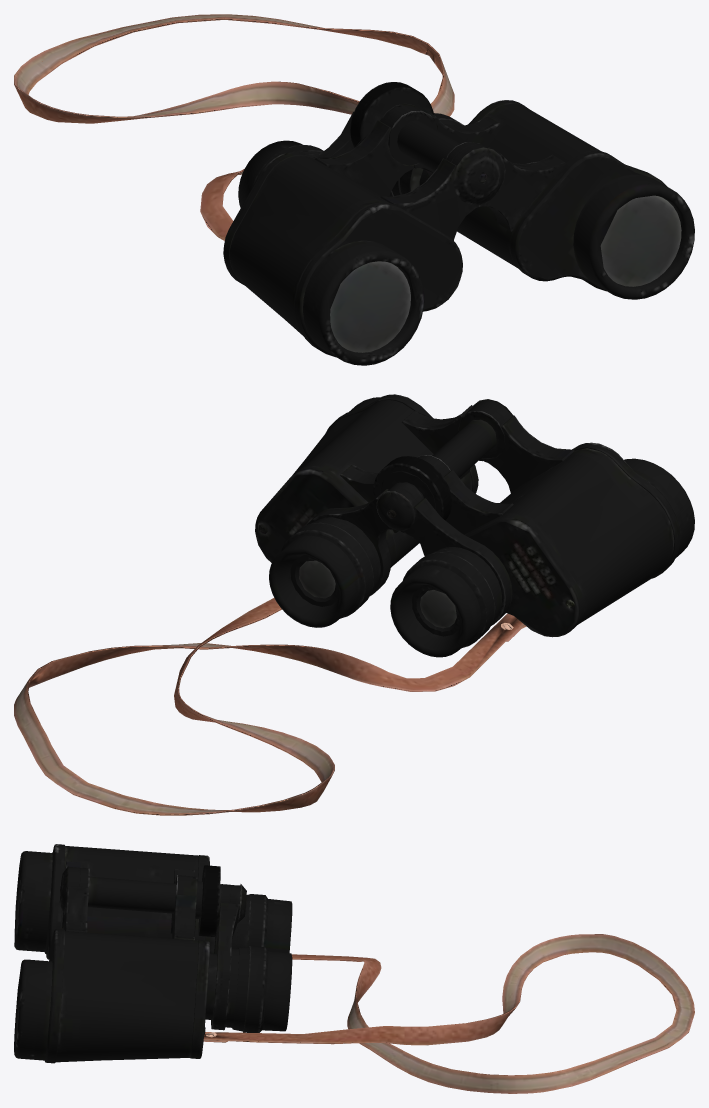
File: binoculars.glb
3 views of the same model, one above another, from view 1: azimuth 30°, elevation 25°; view 2: azimuth 150°, elevation 25°; view 3: azimuth 270°, elevation 25° (orthographic). The views are drawn at different scales.
Visible parts, largest first — view 1: binoculars_left, binoculars_strap; view 2: binoculars_left, binoculars_strap; view 3: binoculars_left, binoculars_strap.
Boxes of the visible parts, x1,y1,x2,y2 form: binoculars_left: [223, 82, 694, 365]; binoculars_strap: [14, 14, 454, 240]; binoculars_left: [255, 394, 694, 657]; binoculars_strap: [14, 598, 526, 815]; binoculars_left: [14, 844, 292, 1063]; binoculars_strap: [203, 934, 694, 1093].
Size of the model in its own units: 0.1669 by 0.0656 by 0.2879.
Materials: 2 (2 with a texture image).
